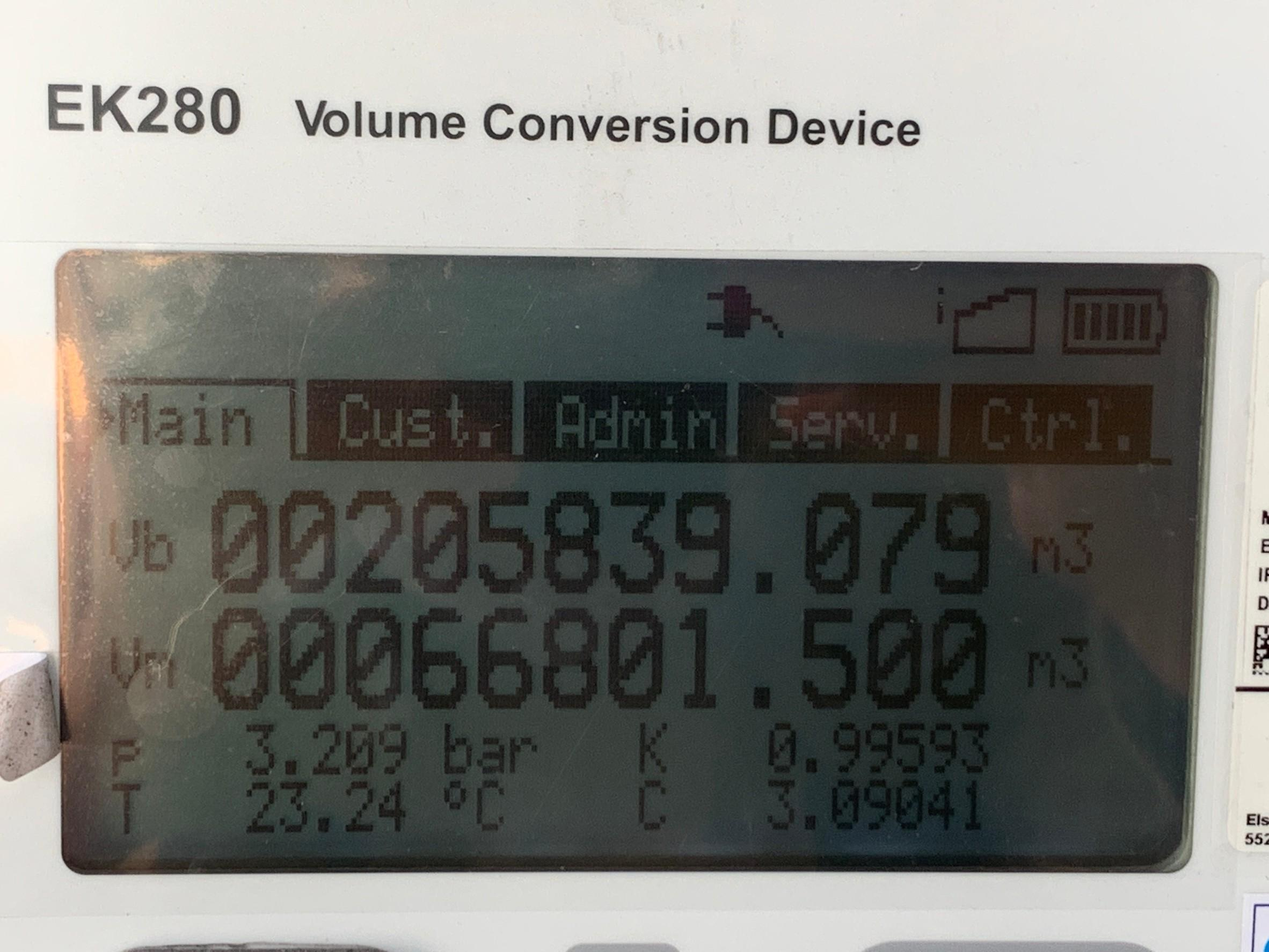digital_screen: (58, 257, 1212, 870)
